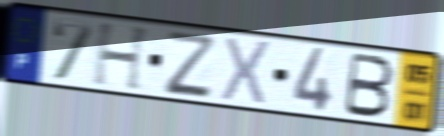4: (291, 46, 335, 114)
7: (50, 15, 96, 83)
B: (341, 50, 397, 121)
H: (90, 21, 154, 94)
X: (219, 35, 274, 109)
Z: (163, 28, 215, 98)
